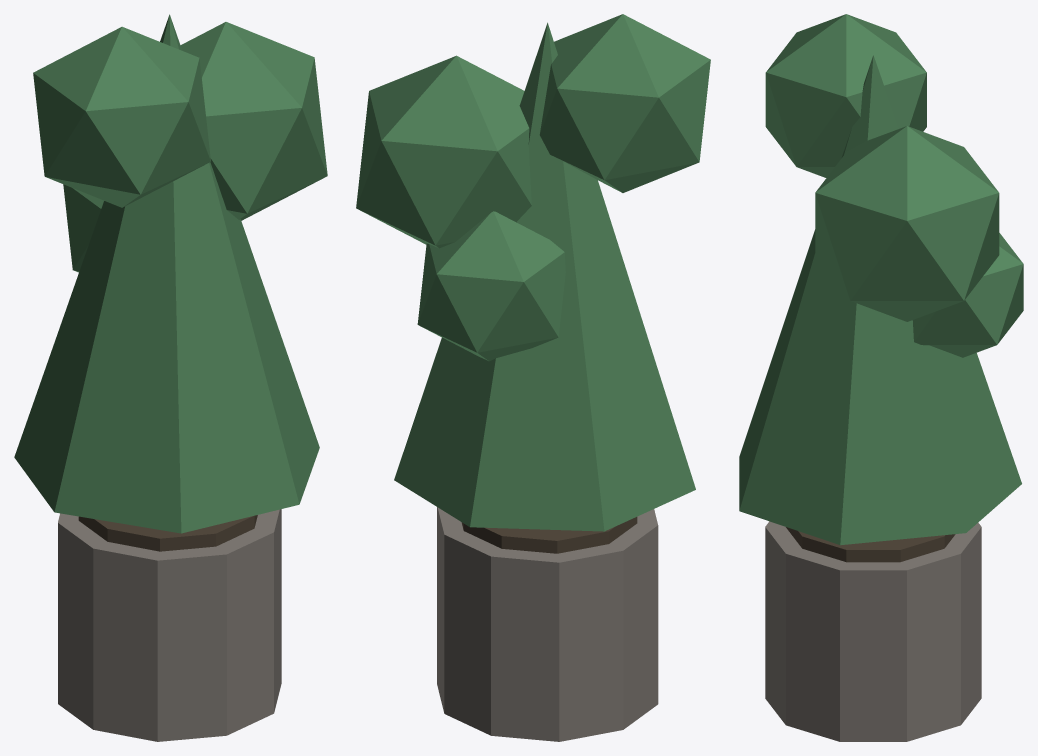
File: office-plant.glb
3 views of the same model, side by side, from view 1: azimuth 30°, elevation 25°; view 2: azimuth 150°, elevation 25°; view 3: azimuth 270°, elevation 25° (orthographic). The views are drawn at different scales.
Visible parts, largest first — view 1: OfficePlant; view 2: OfficePlant; view 3: OfficePlant.
Boxes of the visible parts, x1,y1,x2,y2 form: OfficePlant: [14, 14, 327, 741]; OfficePlant: [356, 14, 710, 741]; OfficePlant: [739, 14, 1023, 741].
Size of the model in its own units: 0.4883 by 1.07 by 0.4203.
